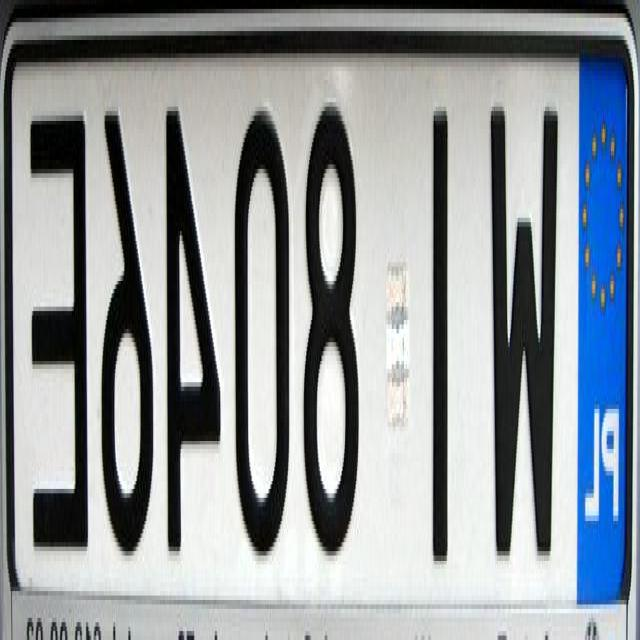pl_license_plate: (12, 45, 633, 591)
